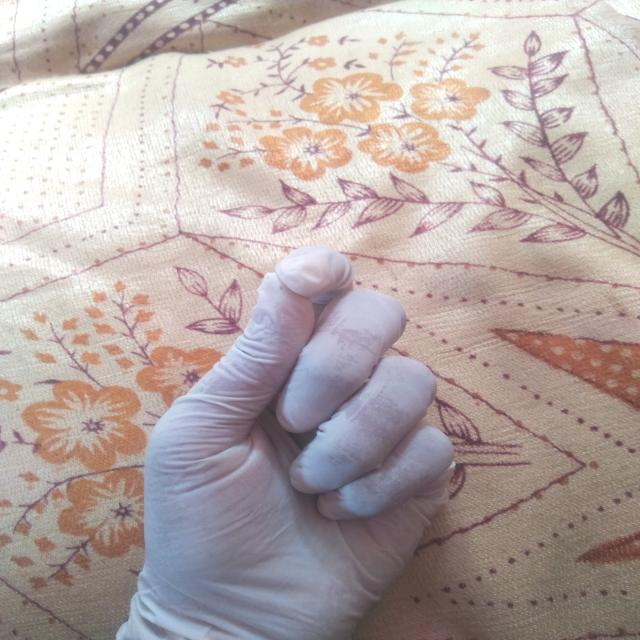glove: (110, 244, 476, 640)
